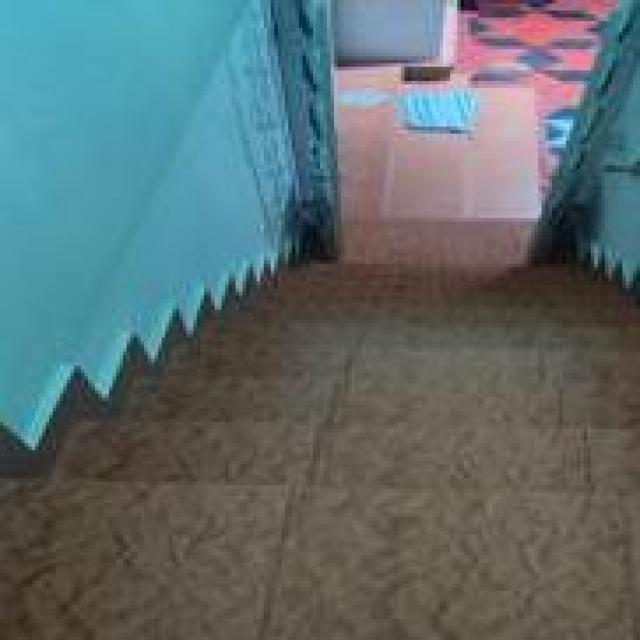Stairs: (12, 163, 640, 627)
